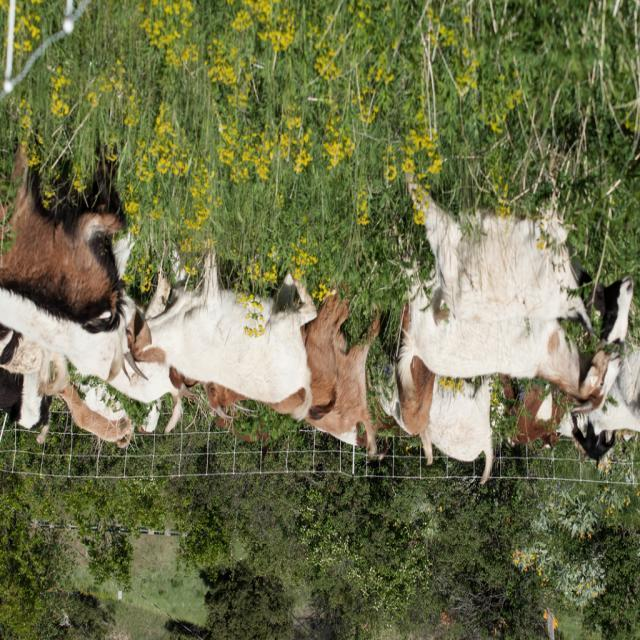Goat: (382, 224, 624, 439), (405, 164, 602, 342), (130, 240, 319, 424), (203, 283, 386, 461), (1, 135, 128, 336), (1, 368, 53, 446)
